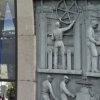Statue: (39, 12, 94, 71)
